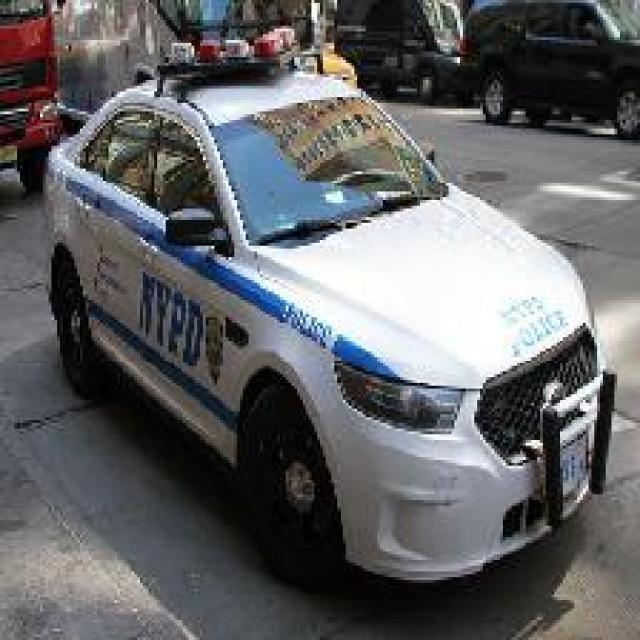emergency: (38, 58, 618, 594)
